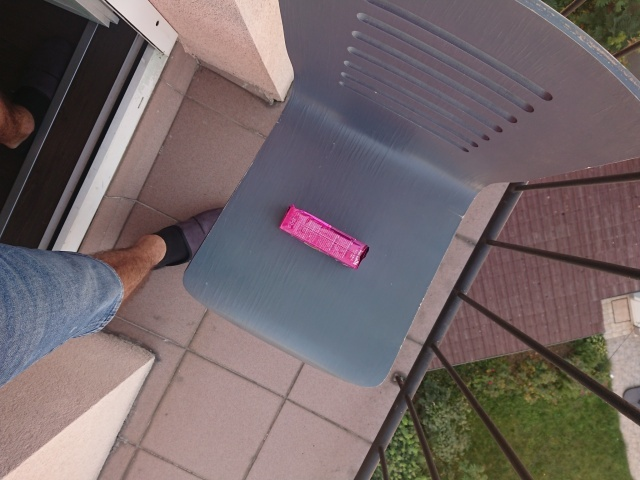Barcaffe Classic Original 225g: (278, 202, 372, 272)
